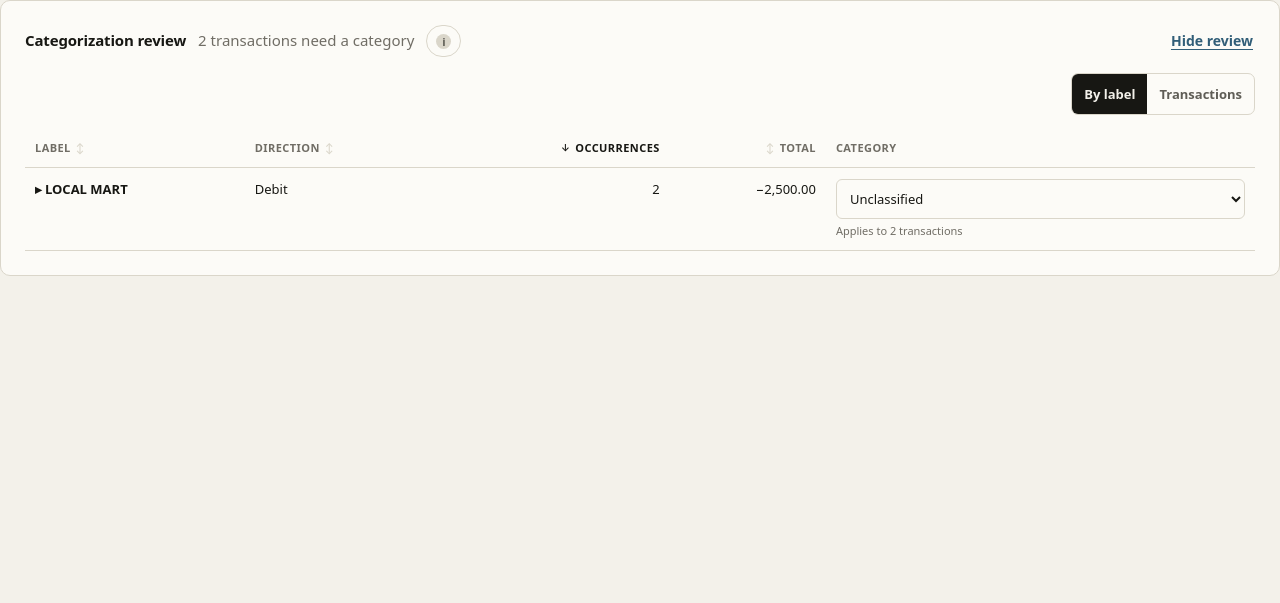
transaction category controls › expands a repeated label inline and allows different categories per transaction
The width and height of the screenshot is (1280, 603).
Click the button "▸ LOCAL MART": (81, 189) [35,178,128,199]
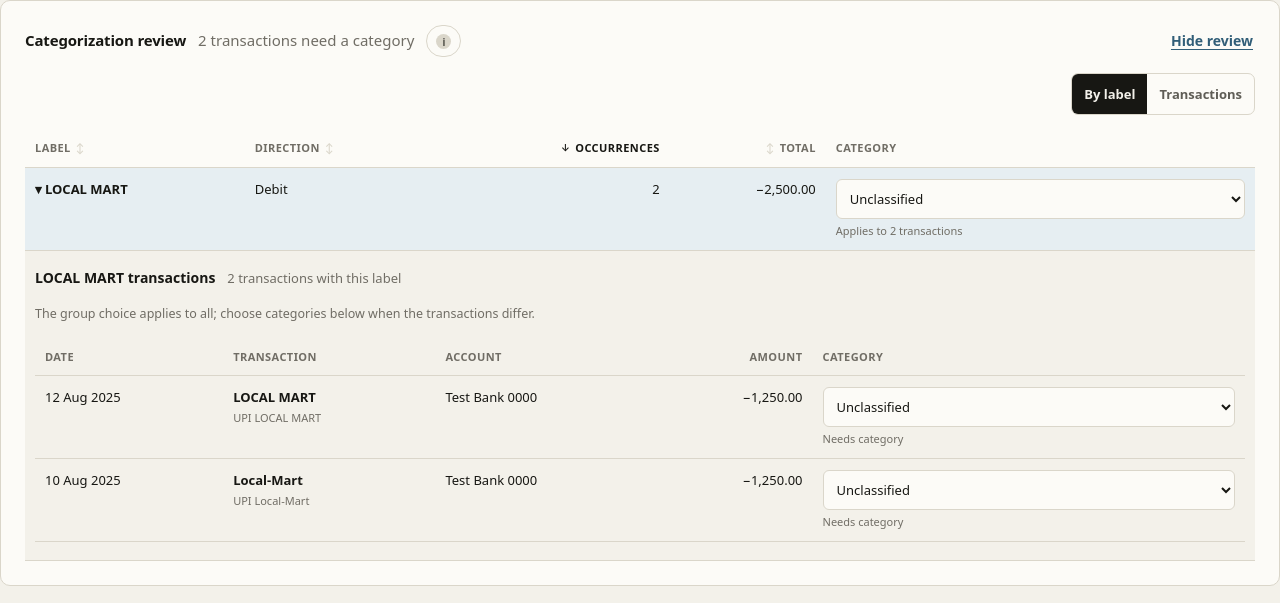
Now the text "2 transactions with this label" is shown, box [227,268,401,288]
Now the text "UPI LOCAL MART" is shown, box [233,410,321,425]
Now the text "UPI Local-Mart" is shown, box [233,493,309,508]
Select "Shopping" in the dropdown named "Category for UPI Local-Mart": (1029, 490) [822,470,1235,510]
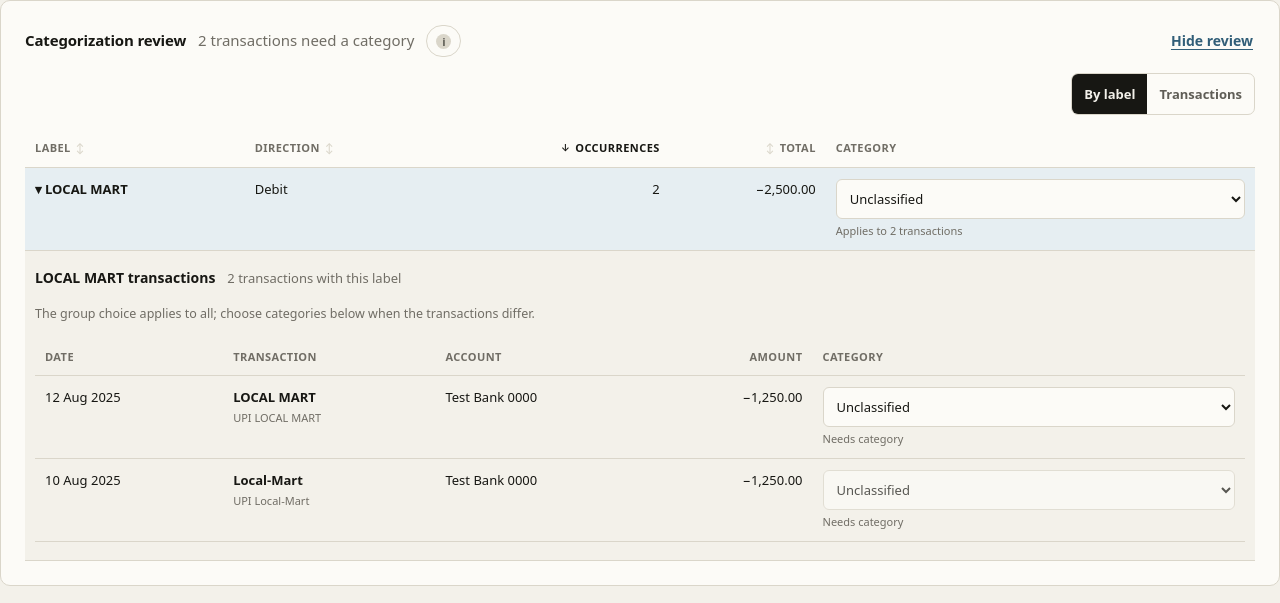
Click the button "▾ LOCAL MART": (81, 189) [35,178,128,199]
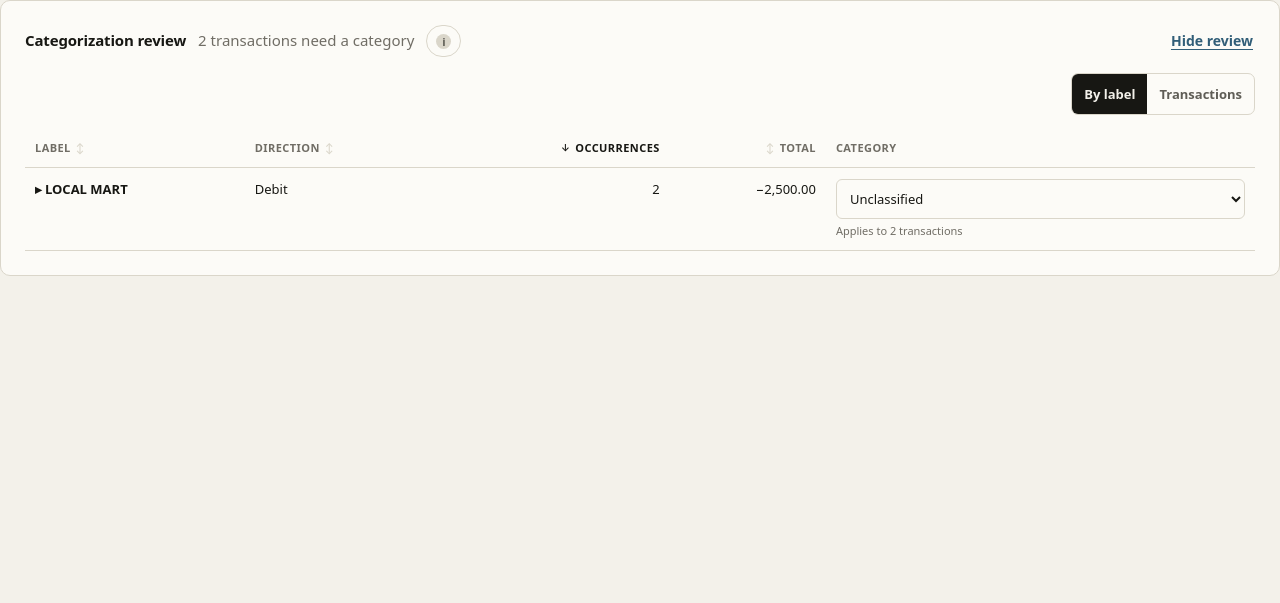
Now the text "2 transactions with this label" is gone
